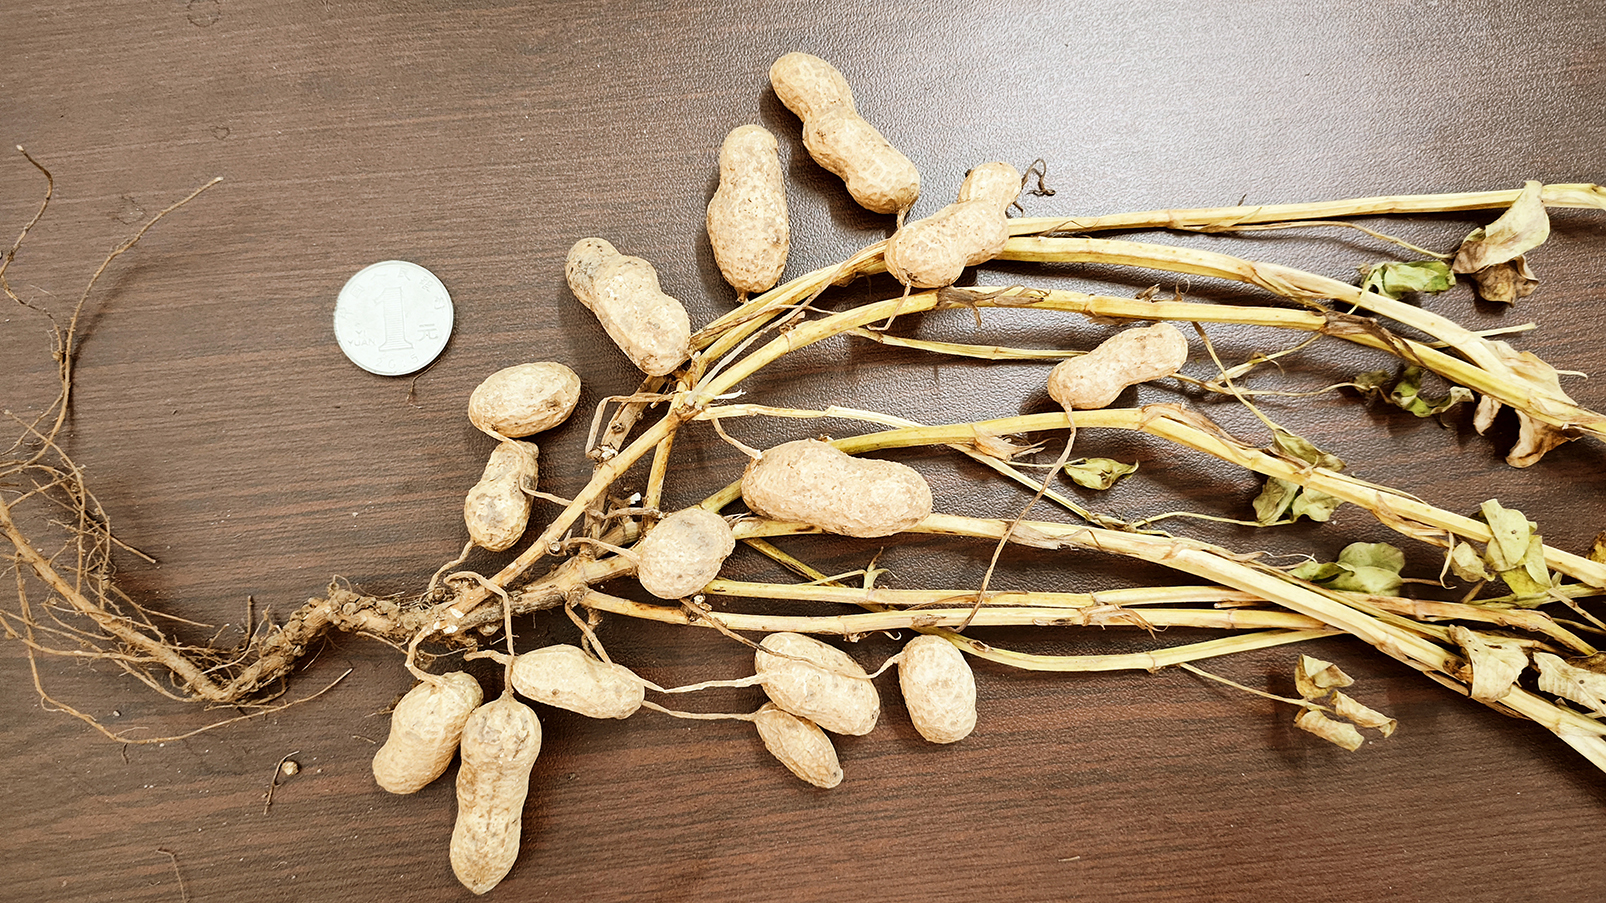h: (771, 54, 921, 215), (745, 439, 935, 539), (451, 697, 543, 895), (563, 237, 690, 376), (886, 158, 1023, 286), (375, 669, 484, 795), (707, 125, 790, 290), (754, 632, 879, 735), (1046, 323, 1193, 408), (511, 642, 646, 718), (638, 508, 736, 599), (467, 361, 580, 437), (898, 633, 976, 742), (463, 442, 540, 551), (756, 705, 843, 789)
